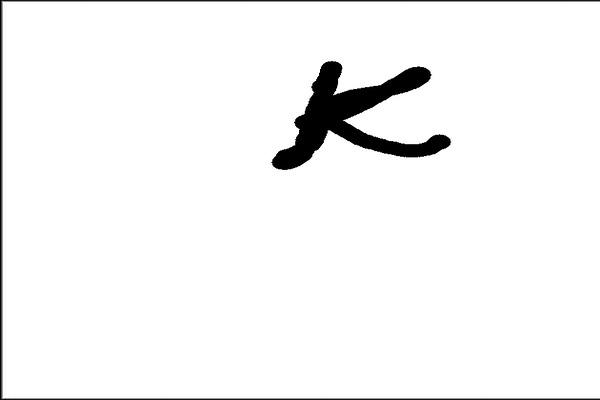K: (265, 52, 457, 177)
